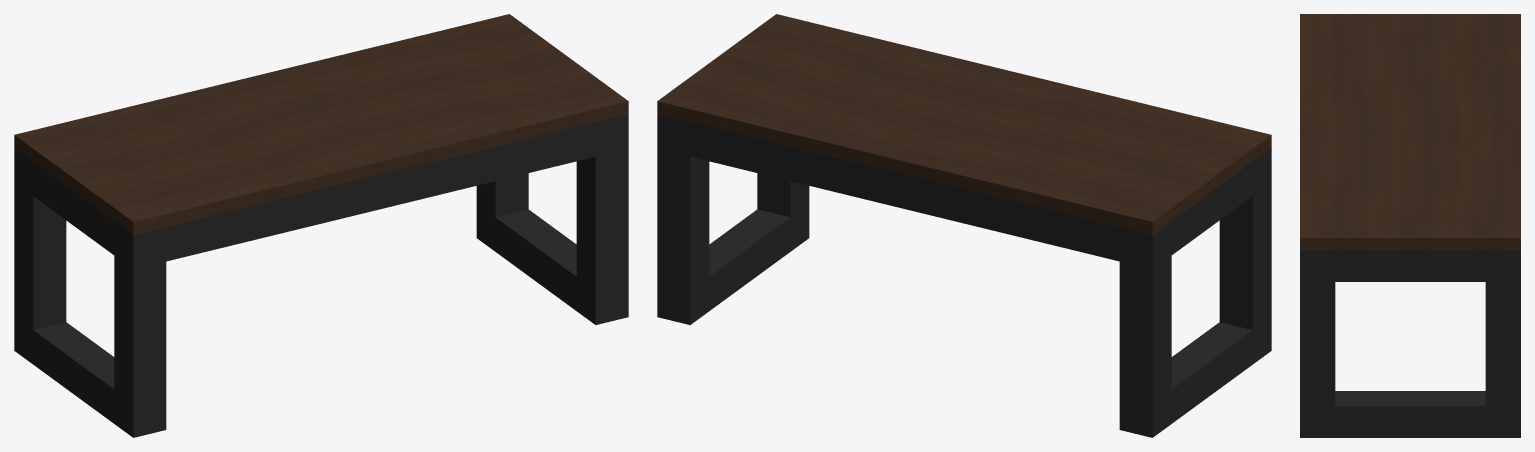
Rendered from mesa-living-nord-ebano-negro-8cm.glb.
3 views of the same model, side by side, from view 1: azimuth 30°, elevation 25°; view 2: azimuth 150°, elevation 25°; view 3: azimuth 270°, elevation 25° (orthographic). The views are drawn at different scales.
Parts seen in each view (by area): view 1: Tapa de madera maciza 120 x 50 cm, Pata recta de hierro 8 x 8 cm (×4), Larguero longitudinal superior recto, Travesaño inferior recto (×2), Travesaño superior recto; view 2: Tapa de madera maciza 120 x 50 cm, Pata recta de hierro 8 x 8 cm (×4), Larguero longitudinal superior recto, Travesaño inferior recto (×2), Travesaño superior recto; view 3: Tapa de madera maciza 120 x 50 cm, Pata recta de hierro 8 x 8 cm (×2), Travesaño inferior recto, Travesaño superior recto.
Boxes of the visible parts, x1,y1,x2,y2 form: Tapa de madera maciza 120 x 50 cm: [14, 14, 628, 234]; Pata recta de hierro 8 x 8 cm (×4): [14, 114, 628, 437]; Larguero longitudinal superior recto: [166, 122, 595, 261]; Travesaño inferior recto (×2): [24, 209, 585, 429]; Travesaño superior recto: [24, 156, 123, 261]; Tapa de madera maciza 120 x 50 cm: [657, 14, 1271, 234]; Pata recta de hierro 8 x 8 cm (×4): [657, 114, 1271, 437]; Larguero longitudinal superior recto: [690, 122, 1119, 261]; Travesaño inferior recto (×2): [700, 209, 1261, 430]; Travesaño superior recto: [1162, 155, 1261, 262]; Tapa de madera maciza 120 x 50 cm: [1300, 14, 1520, 249]; Pata recta de hierro 8 x 8 cm (×2): [1300, 250, 1520, 437]; Travesaño inferior recto: [1318, 391, 1502, 437]; Travesaño superior recto: [1317, 250, 1503, 281].
Size of the model in its own units: 1.2 by 0.5 by 0.5.
Materials: 2 (1 with a texture image).
